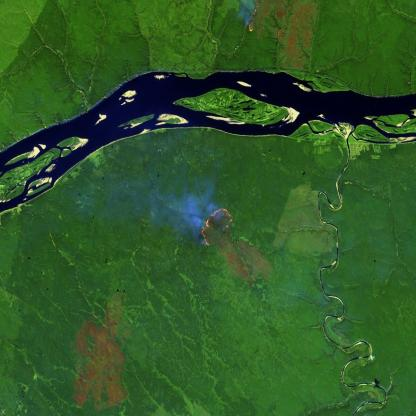fire: (195, 195, 236, 250), (244, 0, 263, 35)
